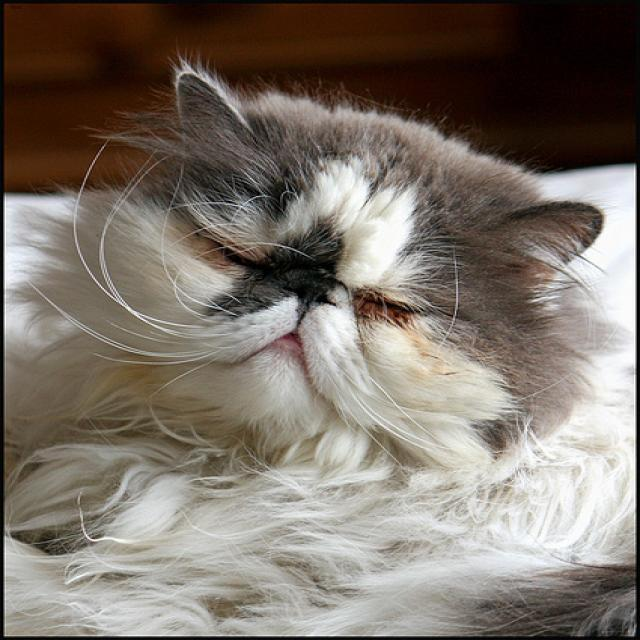Persian: (17, 65, 612, 477)
